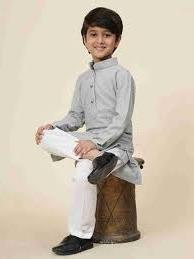Human: (44, 3, 140, 257)
